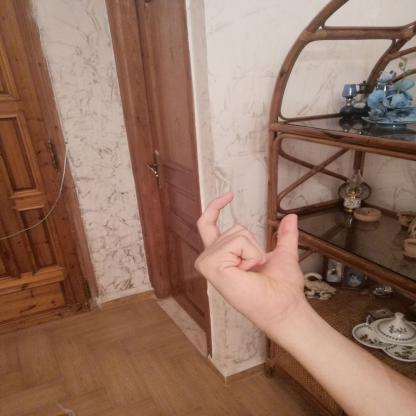NOON: (180, 185, 321, 328)
